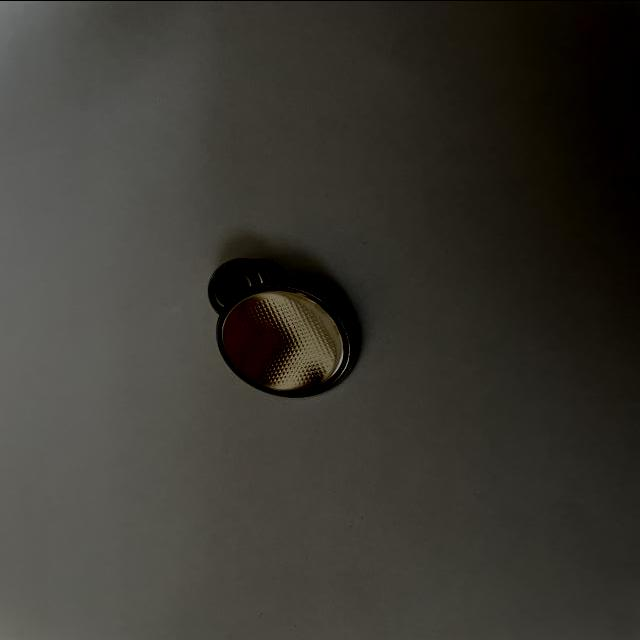COIN: (214, 283, 360, 398), (207, 258, 293, 313)
